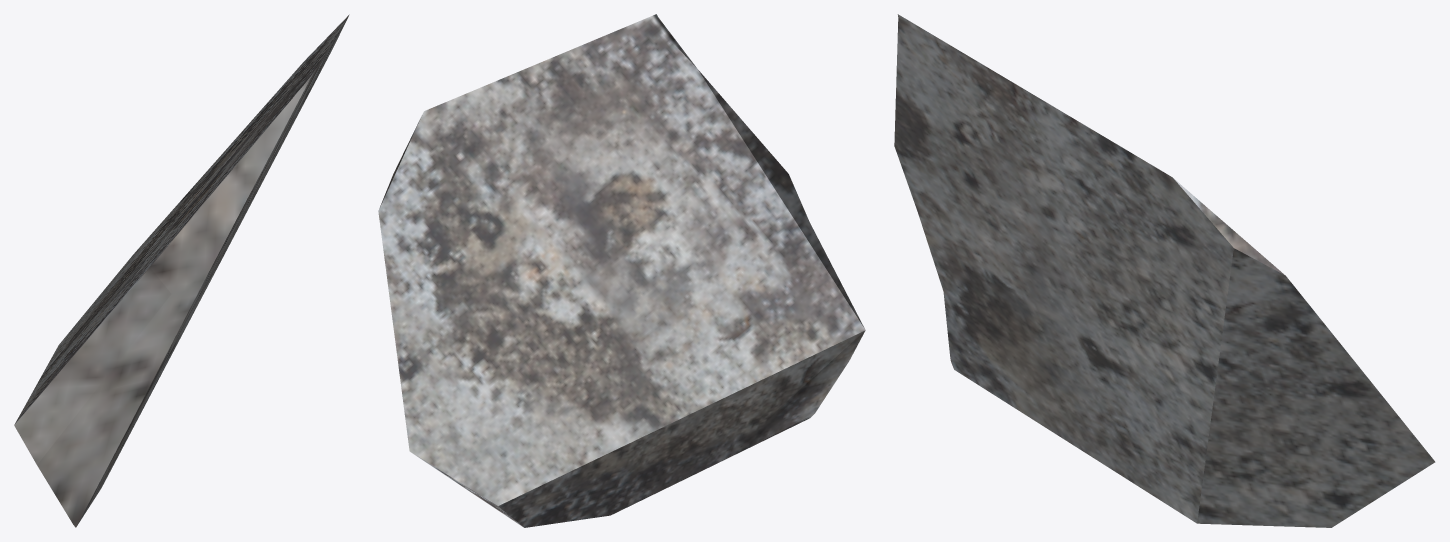
File: Asteroid_Large_001_02_002_03_016.fbx
3 renders of one model, left to right at view 1: azimuth 30°, elevation 25°; view 2: azimuth 150°, elevation 25°; view 3: azimuth 270°, elevation 25°, orthographic. The views are drawn at different scales.
Parts seen in each view (by area): view 1: Asteroid_Large_001_02_002_03_016; view 2: Asteroid_Large_001_02_002_03_016; view 3: Asteroid_Large_001_02_002_03_016.
Part boxes in pixels (<box>): Asteroid_Large_001_02_002_03_016: <box>14,14,349,527</box>; Asteroid_Large_001_02_002_03_016: <box>378,14,865,527</box>; Asteroid_Large_001_02_002_03_016: <box>894,14,1435,527</box>.
Size of the model in its own units: 7.59 by 8 by 7.11.
